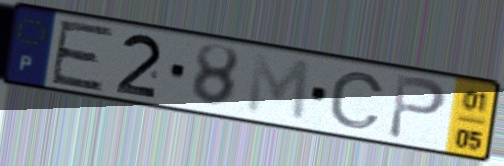2: (114, 32, 164, 100)
8: (188, 43, 243, 111)
C: (326, 69, 388, 130)
E: (47, 18, 118, 94)
M: (243, 50, 313, 125)
P: (385, 72, 450, 142)
